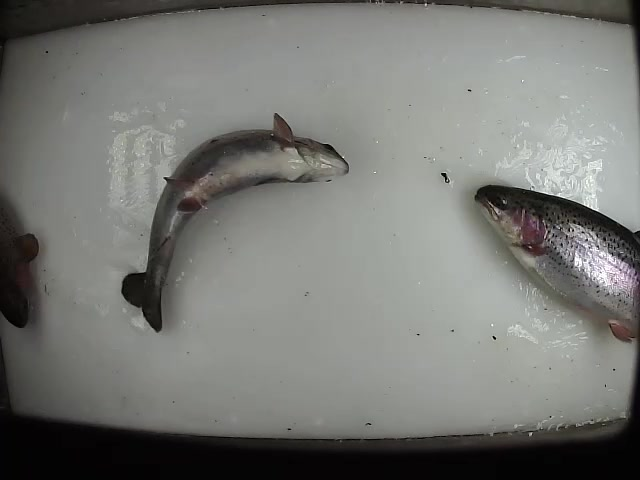fish: (119, 107, 355, 333), (470, 175, 640, 349)
